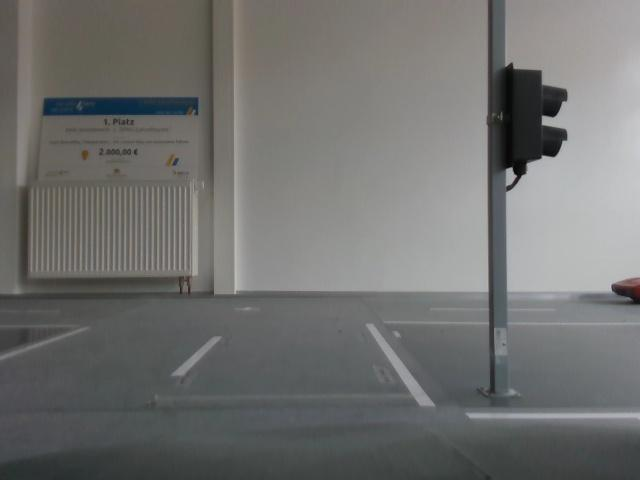car: (604, 266, 640, 316)
traffic light: (487, 59, 579, 186)
